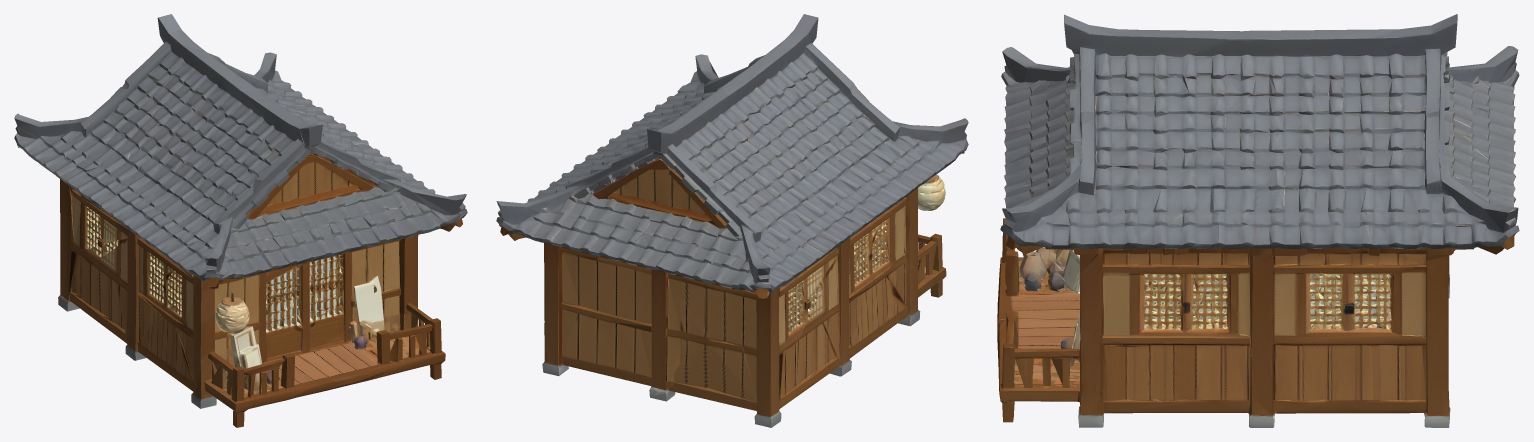
File: pinehouse.glb
3 views of the same model, side by side, from view 1: azimuth 30°, elevation 25°; view 2: azimuth 150°, elevation 25°; view 3: azimuth 270°, elevation 25° (orthographic). The views are drawn at different scales.
Bounding box in the file's own units: 1.45 × 1.36 × 1.89.
1 material, 1 textured.
